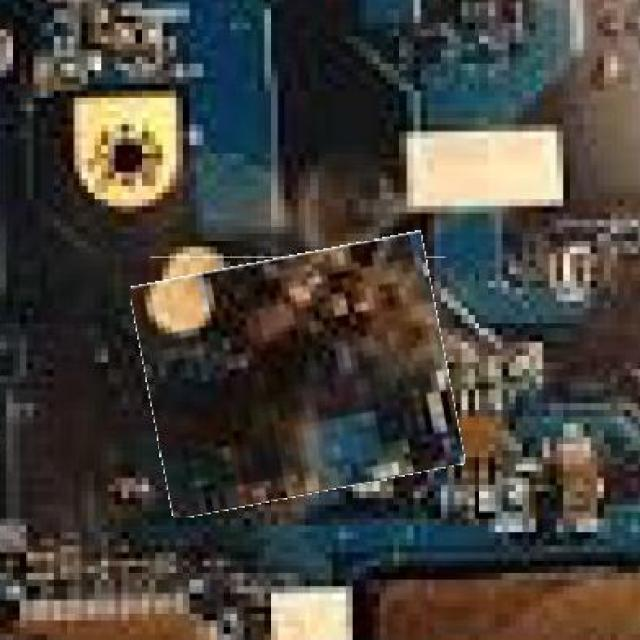Burn: (139, 243, 455, 506)
